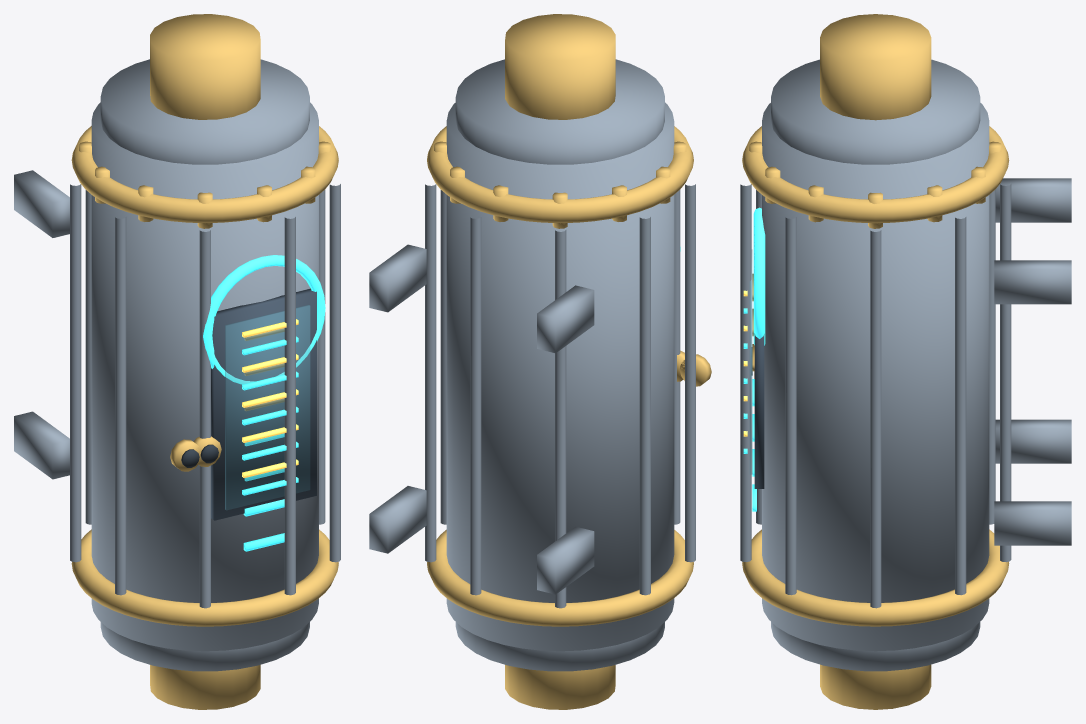
Rendered from 33_L88_OxygenBufferStorageTank.glb.
3 renders of one model, left to right at view 1: azimuth 30°, elevation 25°; view 2: azimuth 150°, elevation 25°; view 3: azimuth 270°, elevation 25°, orthographic.
Parts seen in each view (by area): view 1: L87_OxygenBufferStorageTank_Part_0000, L87_OxygenBufferStorageTank_Part_0001, L87_OxygenBufferStorageTank_Part_0002, L87_OxygenBufferStorageTank_Part_0003, L87_OxygenBufferStorageTank_Part_0004, L87_OxygenBufferStorageTank_Part_0005, L87_OxygenBufferStorageTank_Part_0006, L87_OxygenBufferStorageTank_Part_0007; view 2: L87_OxygenBufferStorageTank_Part_0000, L87_OxygenBufferStorageTank_Part_0001; view 3: L87_OxygenBufferStorageTank_Part_0000, L87_OxygenBufferStorageTank_Part_0001, L87_OxygenBufferStorageTank_Part_0004, L87_OxygenBufferStorageTank_Part_0002, L87_OxygenBufferStorageTank_Part_0003.
Part boxes in pixels (x1,y1,x2,y2): L87_OxygenBufferStorageTank_Part_0000: (14, 59, 340, 671); L87_OxygenBufferStorageTank_Part_0001: (71, 14, 338, 709); L87_OxygenBufferStorageTank_Part_0002: (211, 288, 316, 520); L87_OxygenBufferStorageTank_Part_0003: (225, 305, 309, 510); L87_OxygenBufferStorageTank_Part_0004: (203, 255, 325, 495); L87_OxygenBufferStorageTank_Part_0005: (242, 319, 298, 477); L87_OxygenBufferStorageTank_Part_0006: (243, 433, 284, 551); L87_OxygenBufferStorageTank_Part_0007: (170, 439, 201, 471); L87_OxygenBufferStorageTank_Part_0000: (369, 59, 695, 671); L87_OxygenBufferStorageTank_Part_0001: (427, 14, 693, 709); L87_OxygenBufferStorageTank_Part_0000: (740, 59, 1071, 671); L87_OxygenBufferStorageTank_Part_0001: (742, 14, 1009, 709); L87_OxygenBufferStorageTank_Part_0004: (743, 207, 765, 453); L87_OxygenBufferStorageTank_Part_0002: (754, 333, 764, 488); L87_OxygenBufferStorageTank_Part_0003: (750, 249, 752, 474).
Size of the model in its own units: 1.12 by 2.96 by 1.37.
